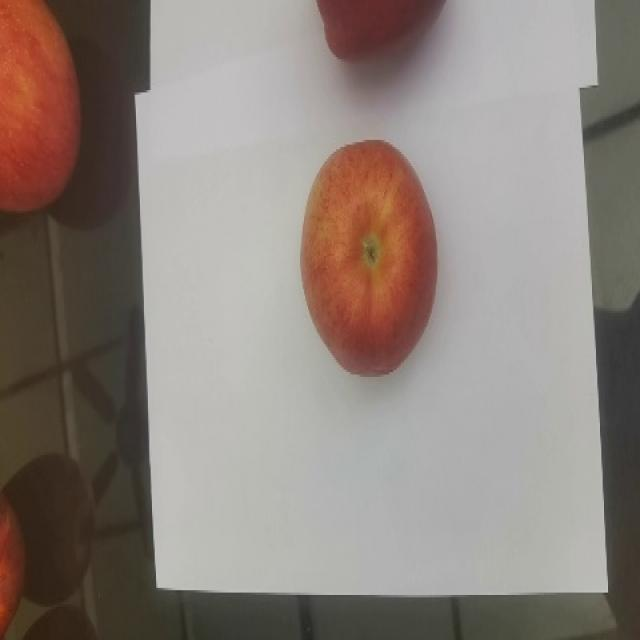Apple: (299, 138, 438, 376), (0, 0, 83, 214), (314, 0, 447, 60), (0, 490, 26, 639)
